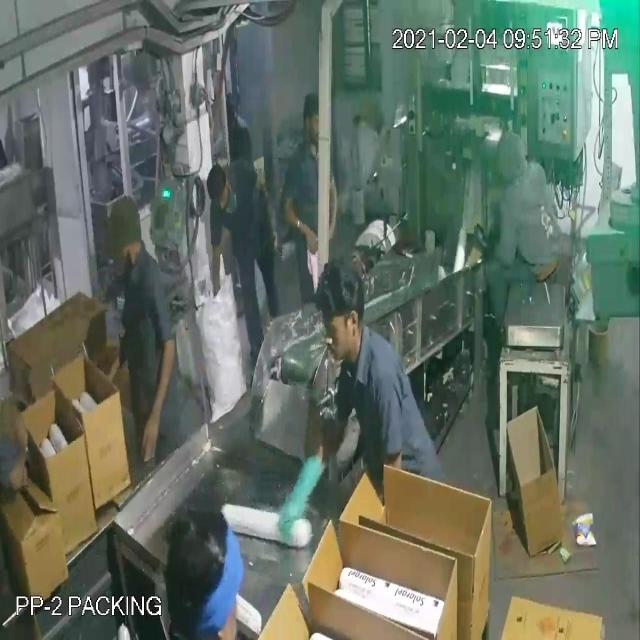gloves: (277, 440, 325, 548)
no-gloves: (129, 319, 180, 471), (278, 182, 322, 262), (204, 232, 233, 305), (318, 174, 346, 248)
